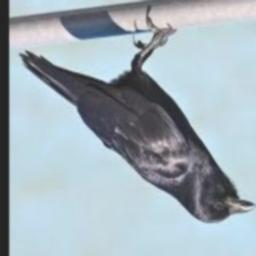Crow: (18, 19, 256, 223)
